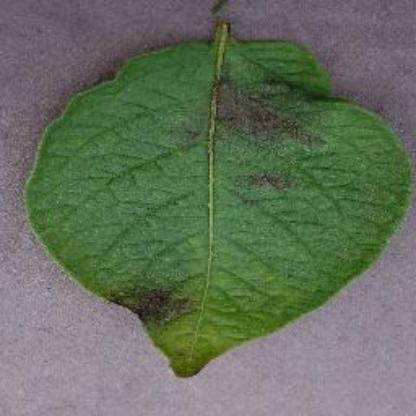Late-Blight: (14, 10, 404, 410)
